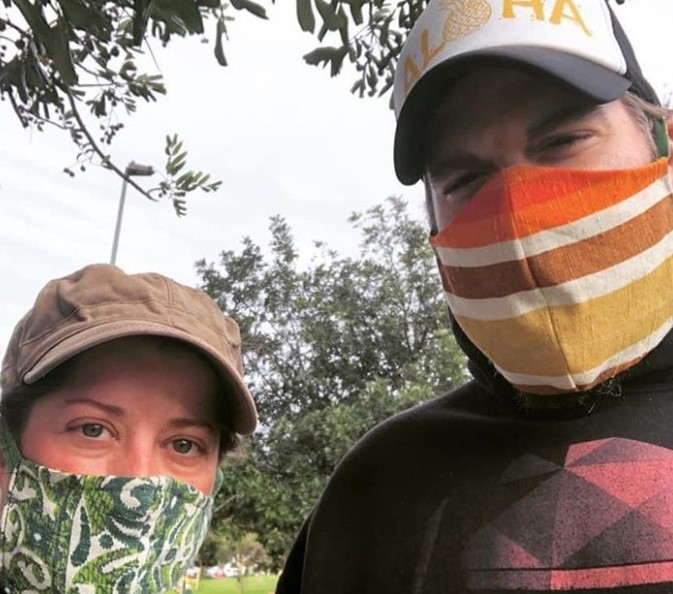face_with_mask: (408, 63, 673, 409), (2, 337, 239, 593)
